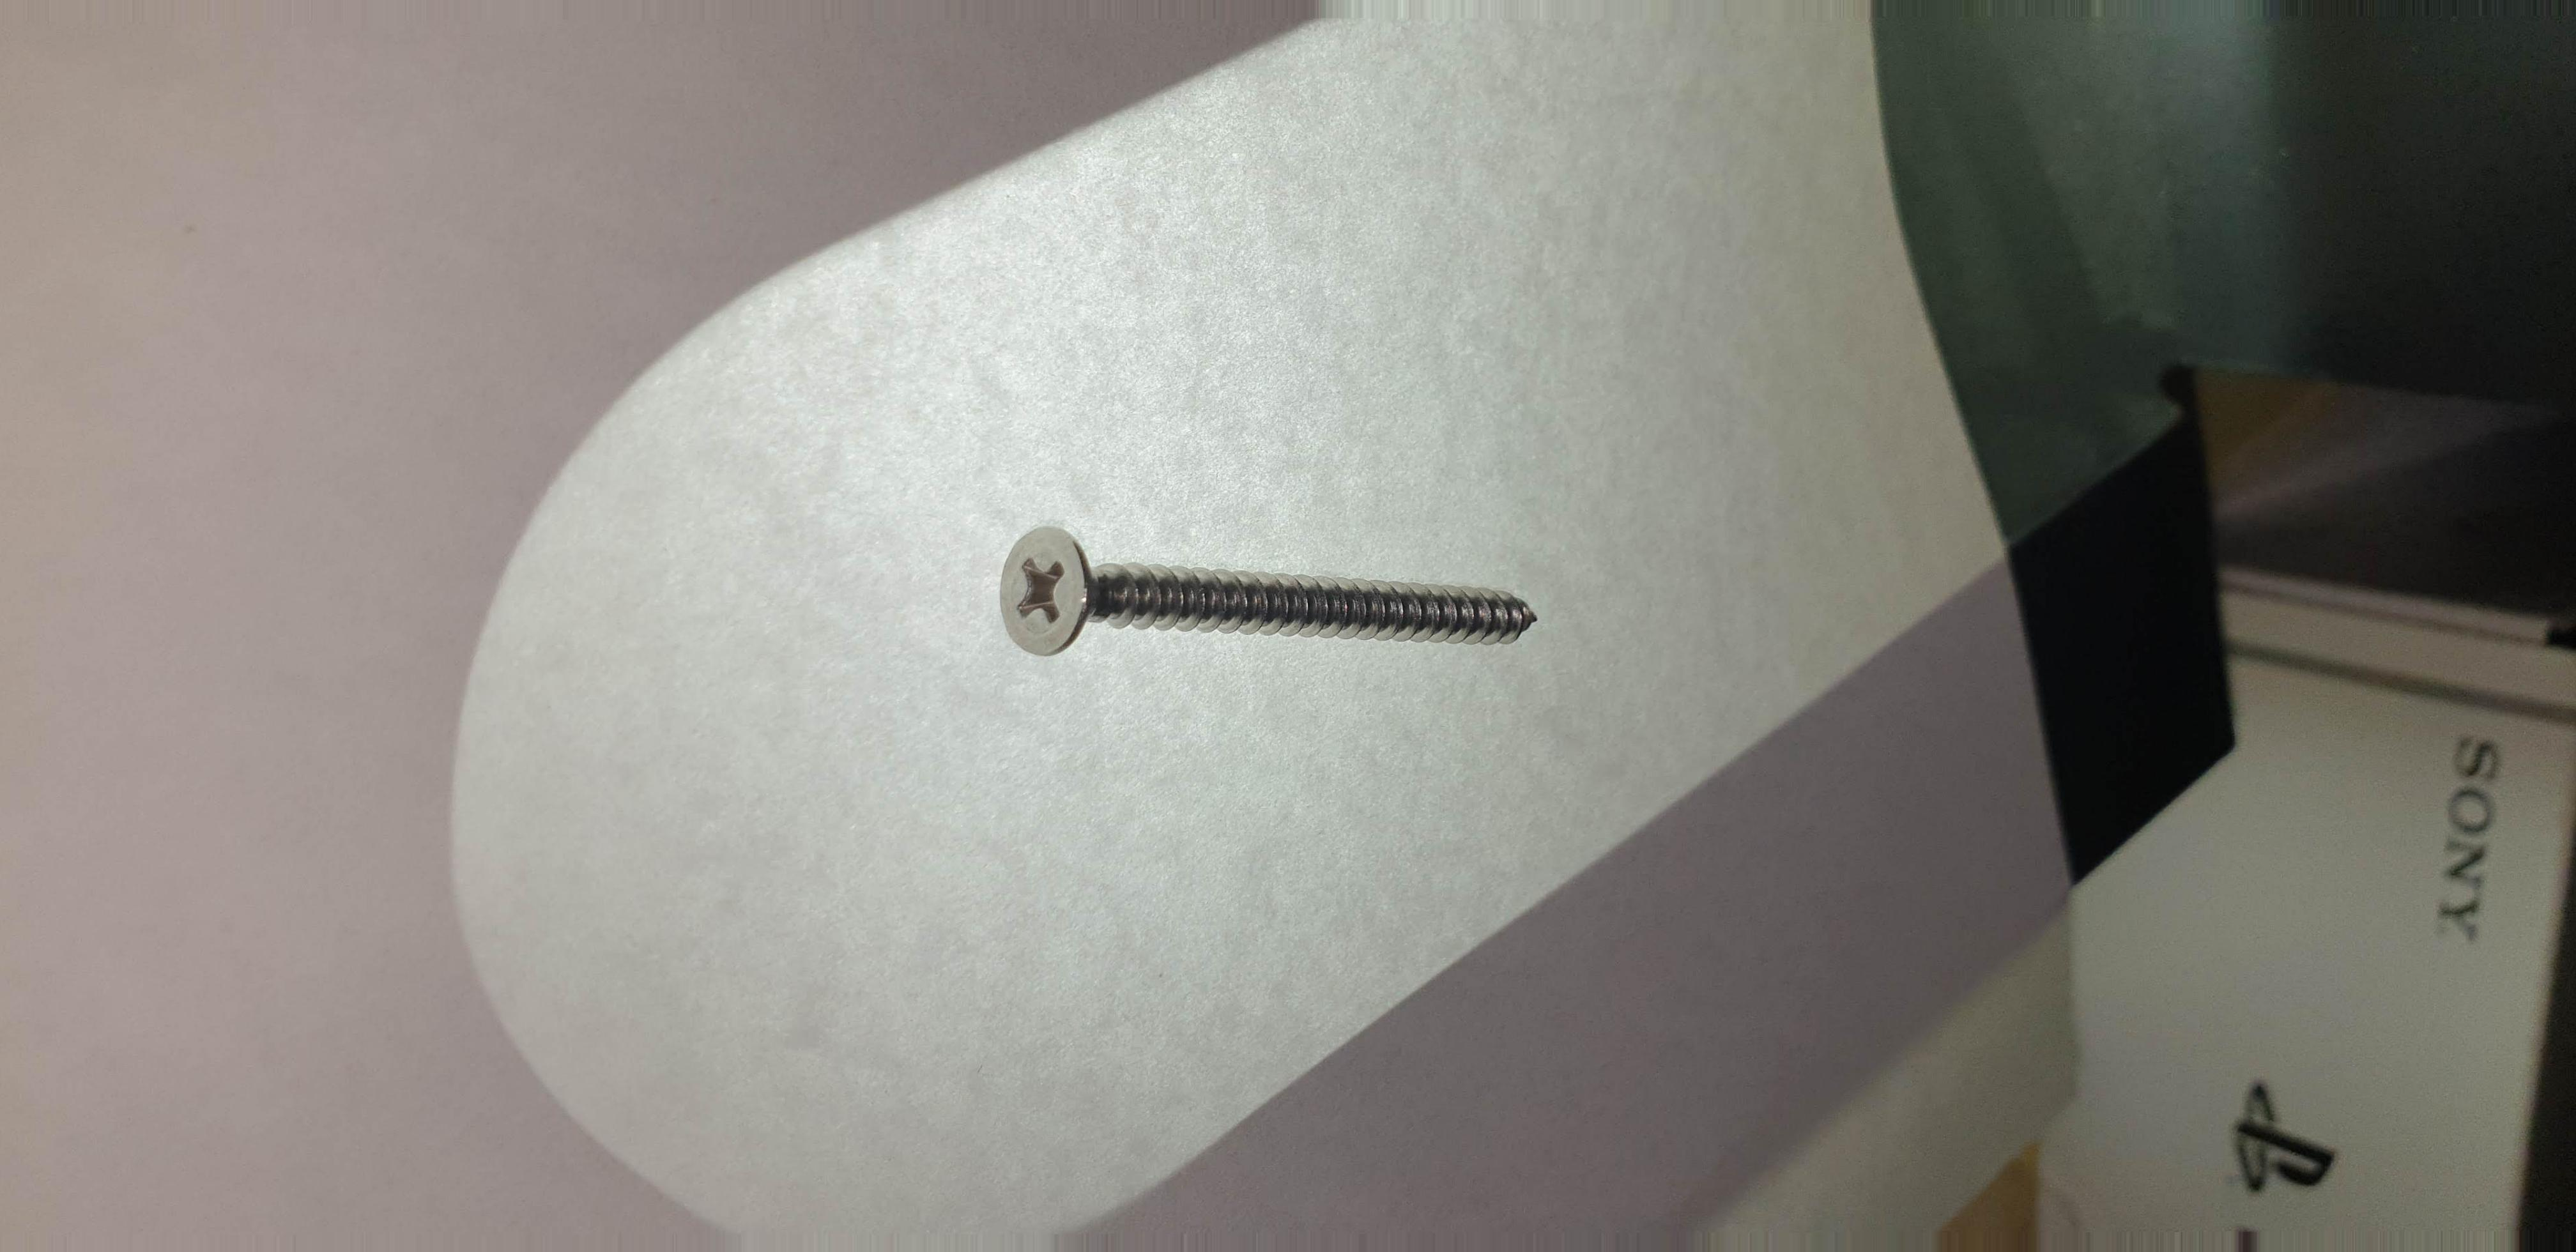fastener: (930, 488, 1636, 734)
